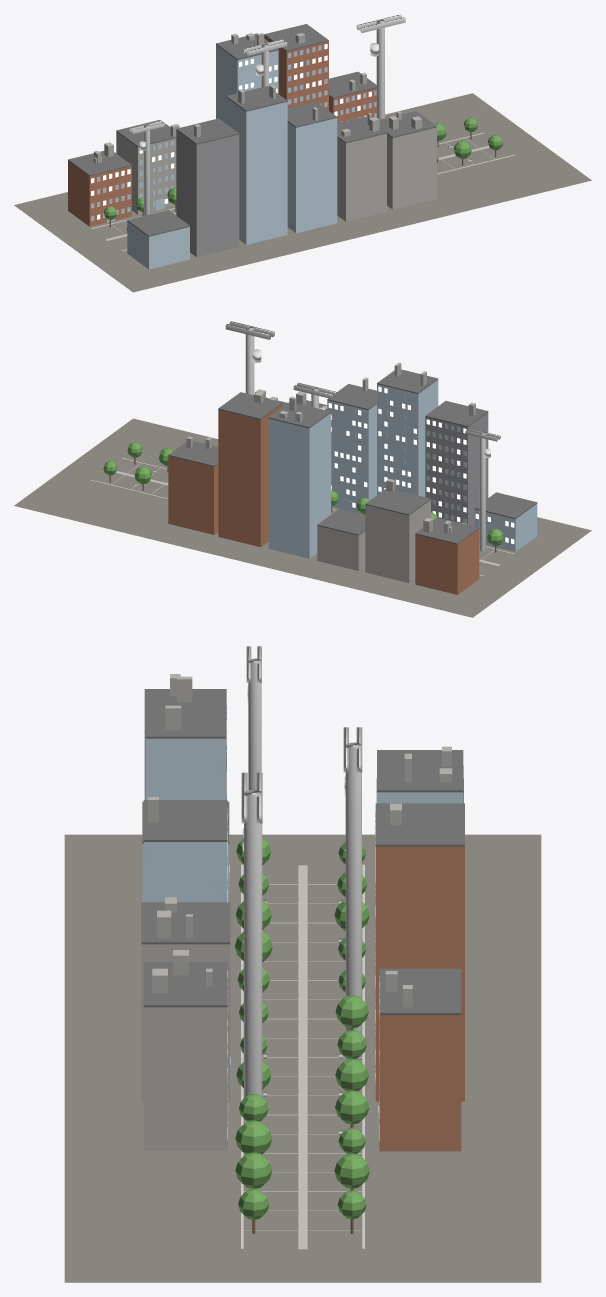
The model's file is stage.glb.
3 renders of one model, top to bottom at view 1: azimuth 30°, elevation 25°; view 2: azimuth 150°, elevation 25°; view 3: azimuth 270°, elevation 25°, orthographic. The views are drawn at different scales.
Parts seen in each view (by area): view 1: Ground, Bld_2, Bld_1, Bld_3, Bld_4, Bld_5, Bld_6, Bld_10, Bld_7, Bld_9, Bld_0, Bld_11 (+13 smaller); view 2: Ground, Bld_9, Bld_10, Bld_1, Bld_2, Bld_3, Bld_7, Bld_11, Bld_6, Bld_8, Bld_0, Roof_7 (+11 smaller); view 3: Ground, Bld_5, Bld_10, Bld_11, 円柱.001, Bld_3, Bld_2, 円柱.004, Prom_CenterLine, Roof_10, Roof_11, Roof_3 (+13 smaller).
Part boxes in pixels (left/top/right/bottom): Ground: left=14, top=93, right=591, bottom=292; Bld_2: left=226, top=97, right=287, bottom=244; Bld_1: left=176, top=130, right=239, bottom=256; Bld_3: left=287, top=118, right=337, bottom=233; Bld_4: left=337, top=133, right=386, bottom=221; Bld_5: left=387, top=127, right=436, bottom=209; Bld_6: left=68, top=161, right=131, bottom=226; Bld_10: left=264, top=35, right=328, bottom=110; Bld_7: left=116, top=131, right=176, bottom=214; Bld_9: left=216, top=44, right=278, bottom=123; Bld_0: left=127, top=221, right=189, bottom=269; Bld_11: left=329, top=88, right=376, bottom=122; Ground: left=14, top=418, right=591, bottom=617; Bld_9: left=268, top=413, right=331, bottom=558; Bld_10: left=218, top=404, right=282, bottom=547; Bld_1: left=425, top=412, right=488, bottom=526; Bld_2: left=377, top=380, right=438, bottom=496; Bld_3: left=327, top=400, right=376, bottom=514; Bld_7: left=365, top=500, right=430, bottom=582; Bld_11: left=168, top=456, right=218, bottom=534; Bld_6: left=415, top=529, right=479, bottom=594; Bld_8: left=317, top=525, right=365, bottom=570; Bld_0: left=474, top=504, right=537, bottom=551; Roof_7: left=365, top=489, right=430, bottom=515; Ground: left=64, top=834, right=541, bottom=1282; Bld_5: left=143, top=1007, right=227, bottom=1150; Bld_10: left=375, top=846, right=464, bottom=1101; Bld_11: left=379, top=1015, right=461, bottom=1151; 円柱.001: left=244, top=789, right=262, bottom=1120; Bld_3: left=143, top=842, right=227, bottom=902; Bld_2: left=145, top=738, right=225, bottom=799; 円柱.004: left=345, top=742, right=361, bottom=1033; Prom_CenterLine: left=298, top=865, right=307, bottom=1249; Roof_10: left=375, top=803, right=464, bottom=846; Roof_11: left=379, top=968, right=461, bottom=1015; Roof_3: left=143, top=800, right=227, bottom=841.
Size of the model in its own units: 140 by 48.03 by 63.
